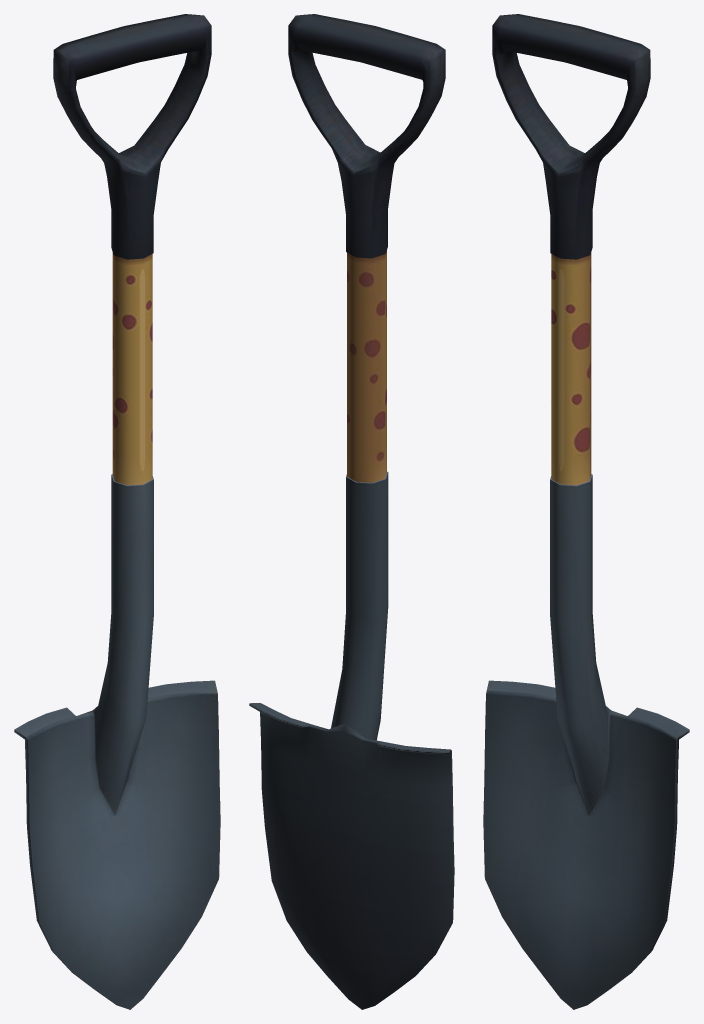
Rendered from shovel.glb.
3 views of the same model, side by side, from view 1: azimuth 30°, elevation 25°; view 2: azimuth 150°, elevation 25°; view 3: azimuth 330°, elevation 25° (orthographic).
Visible parts, largest first — view 1: shovel; view 2: shovel; view 3: shovel.
Part boxes in pixels (bbox=[...]): shovel: bbox=[14, 14, 220, 1009]; shovel: bbox=[249, 14, 454, 1009]; shovel: bbox=[483, 14, 689, 1009].
Bounding box in the file's own units: 0.1054 × 0.4938 × 0.0368.
1 material, 1 textured.
